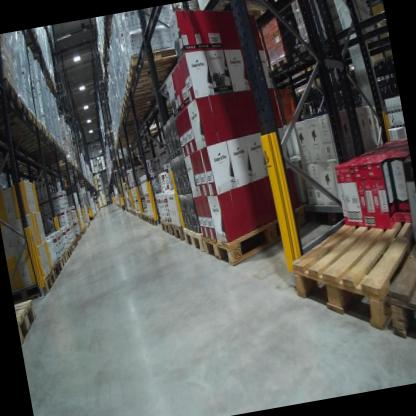pallet: (280, 193, 416, 350), (197, 192, 321, 273), (376, 233, 416, 361), (125, 41, 186, 80), (219, 0, 303, 24), (0, 108, 43, 150), (1, 118, 50, 153), (287, 32, 333, 68), (10, 269, 57, 302), (121, 63, 168, 94), (14, 298, 43, 346), (0, 94, 33, 134), (0, 72, 25, 124), (121, 82, 170, 103), (11, 128, 53, 151), (182, 221, 207, 258), (117, 103, 156, 123), (119, 95, 155, 116), (168, 218, 188, 248), (42, 156, 75, 174), (262, 54, 288, 76), (49, 258, 64, 280), (138, 126, 162, 139), (161, 214, 174, 236), (22, 30, 39, 46), (147, 212, 162, 229), (56, 251, 68, 271), (62, 245, 74, 261), (139, 209, 152, 221), (143, 213, 150, 223)
